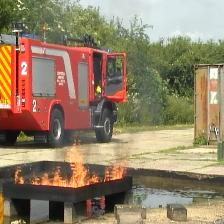fire: (8, 151, 128, 188)
